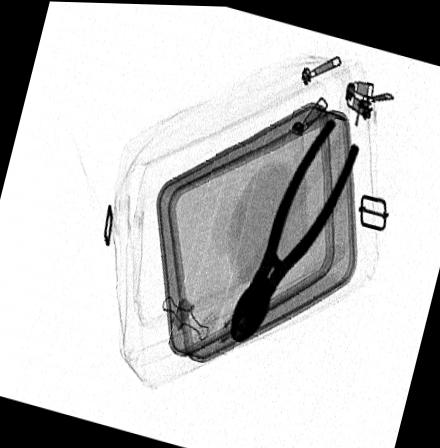Pliers: (230, 111, 360, 340)
